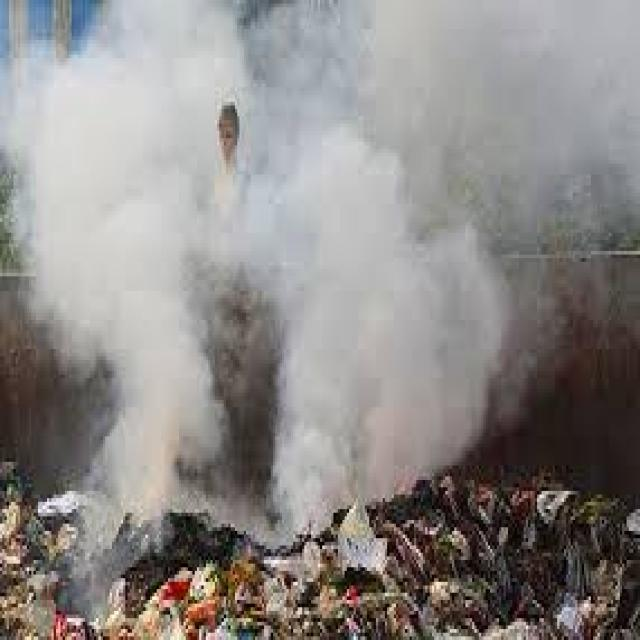Smoke: (0, 0, 222, 509), (255, 139, 503, 517), (361, 2, 640, 198)
